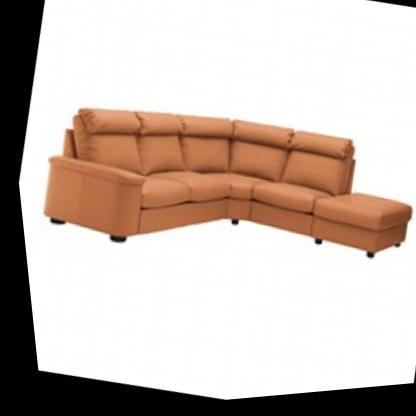Sofa: (9, 53, 416, 326)
